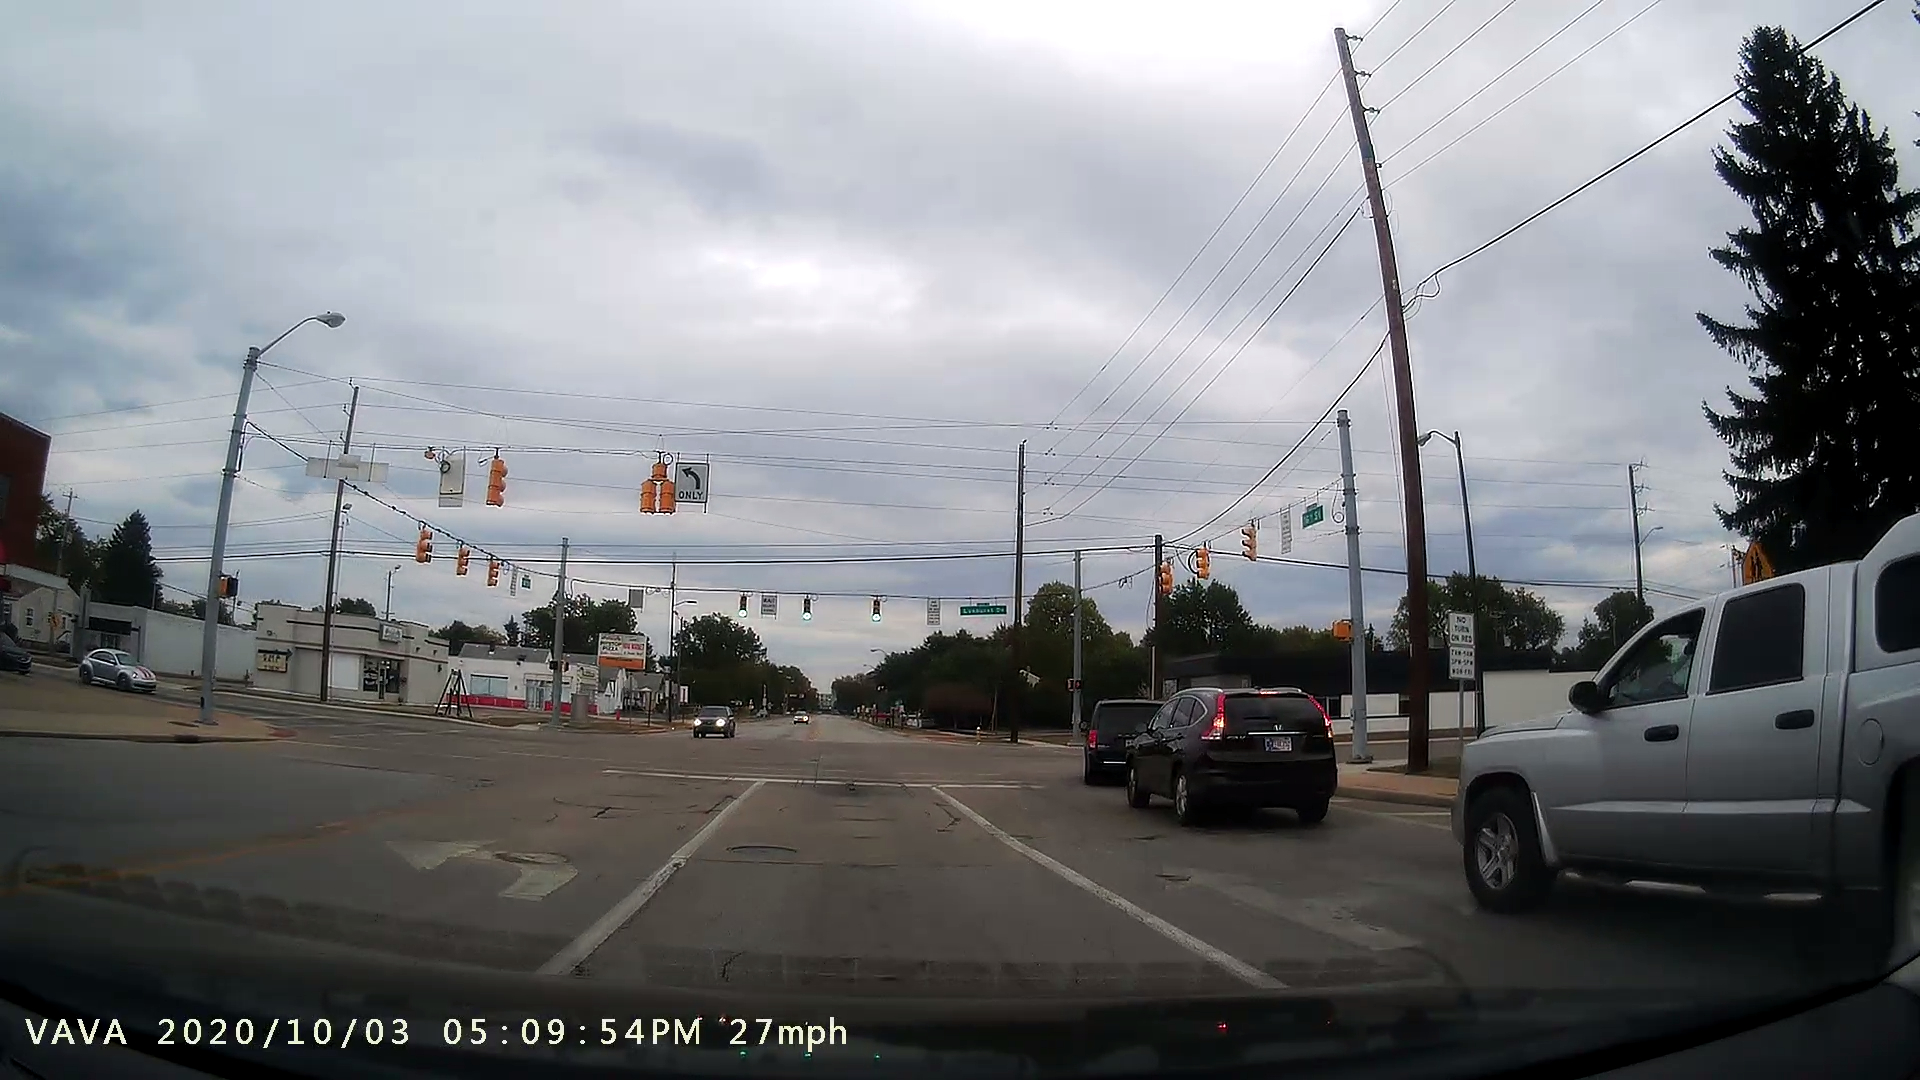left_turn: (361, 811, 591, 909)
